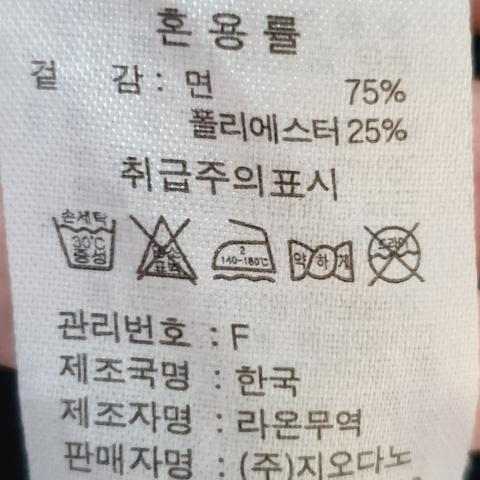DN_dry_clean: (362, 217, 430, 290)
hand_wash: (48, 210, 122, 276)
iron_medium: (212, 217, 277, 280)
non_chlorine_bleach: (130, 209, 206, 289)
wring: (285, 232, 358, 288)
